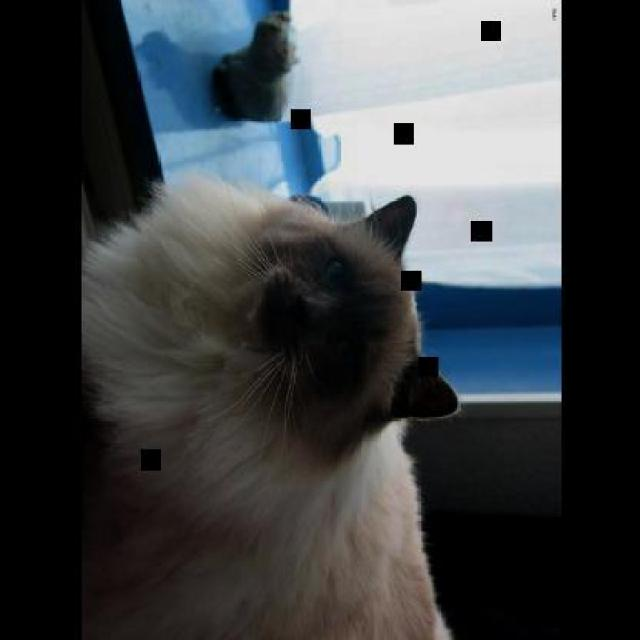unauthorized: (79, 172, 462, 638), (210, 9, 298, 122)
